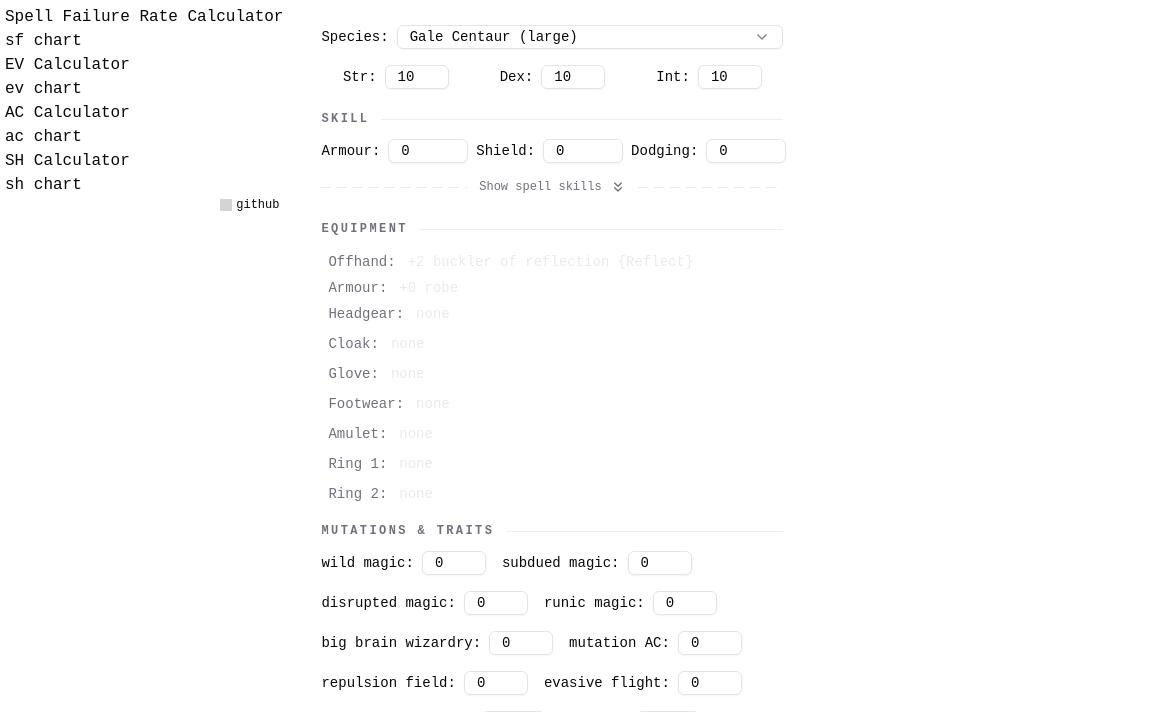
Scenario: Calculator desktop layout › shows shield and orb equipment ego selectors in offhand modals
Click the button with test id "equipment-row-offhand": (552, 262) 322,249 -> 784,275
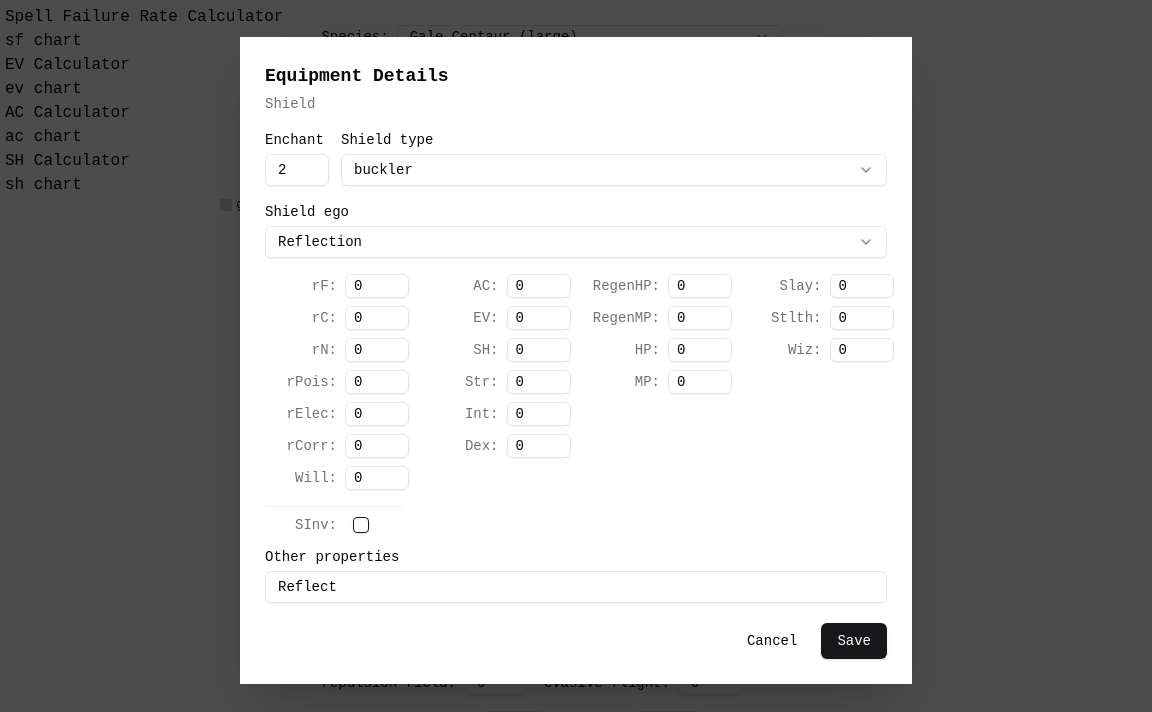
Expected: the dropdown named "Shield ego" reads "Reflection", 265,226 -> 887,258
Click the button with test id "cancel-equipment-edit": (772, 640) 731,622 -> 813,658
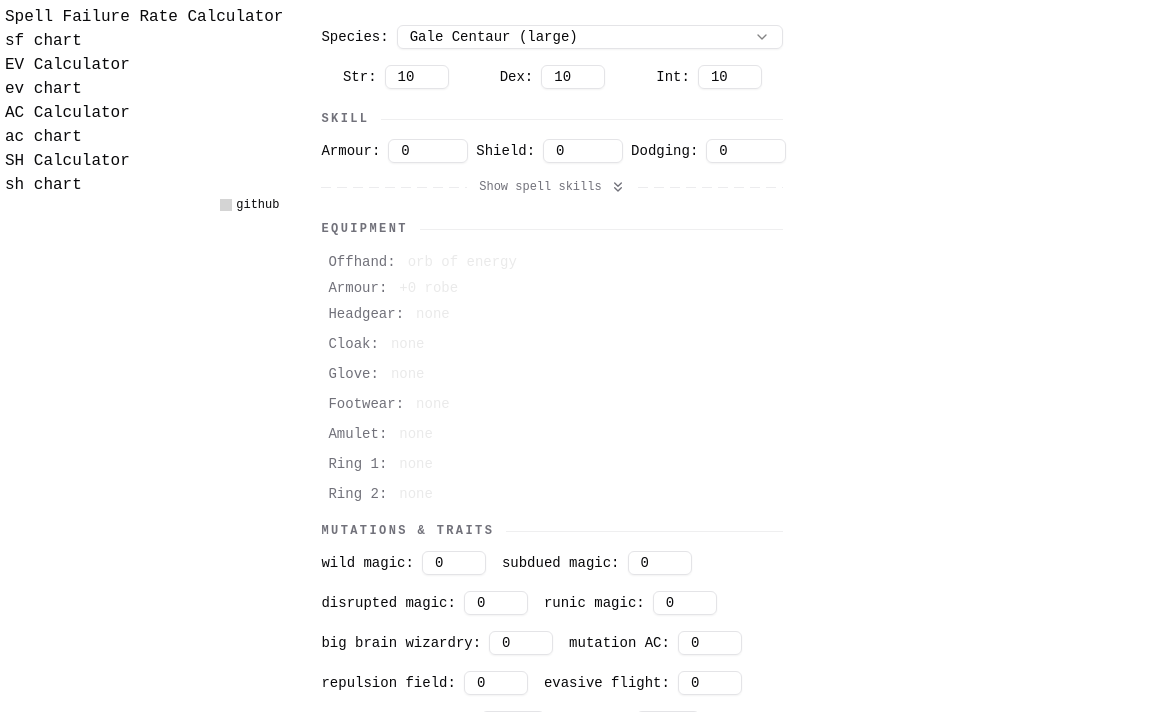
Click the button with test id "equipment-row-offhand": (358, 262) 322,249 -> 784,275
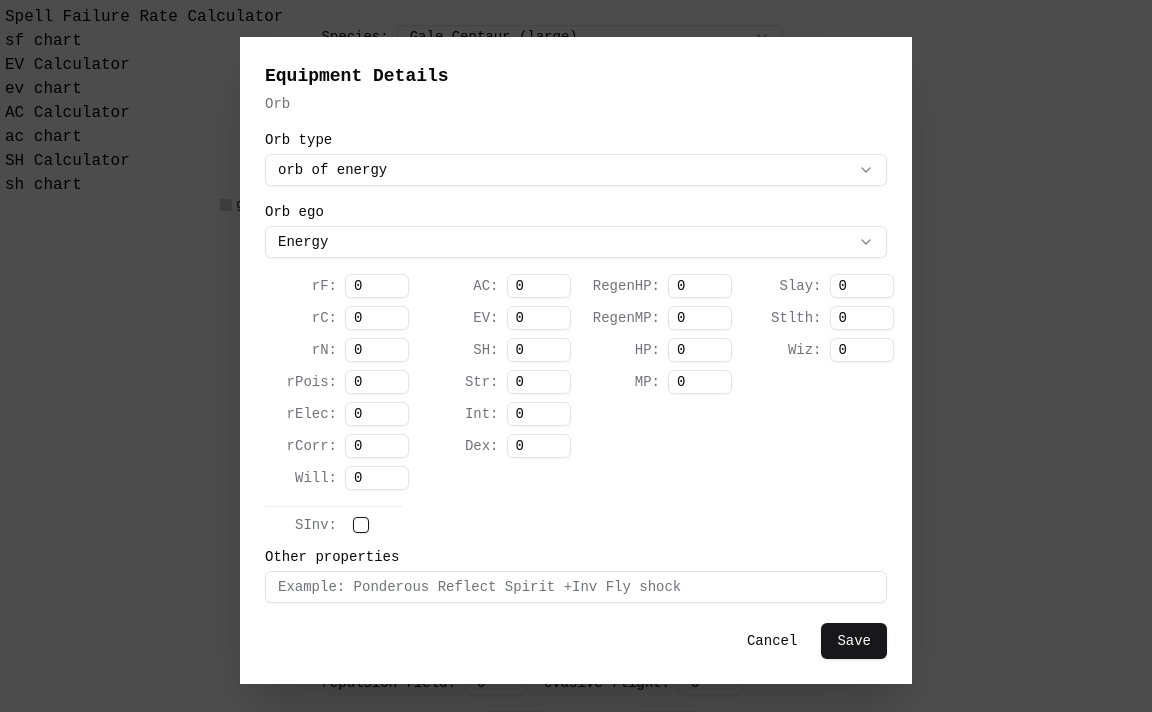
Expected: the dropdown named "Orb ego" reads "Energy", 265,226 -> 887,258
